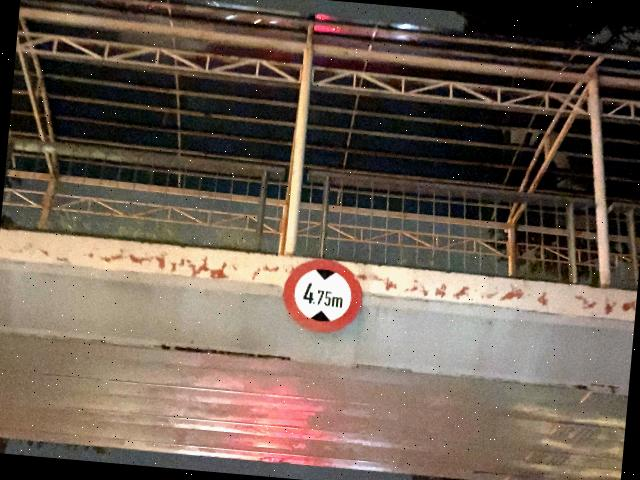han-che-chieu-cao: (279, 255, 366, 336)
